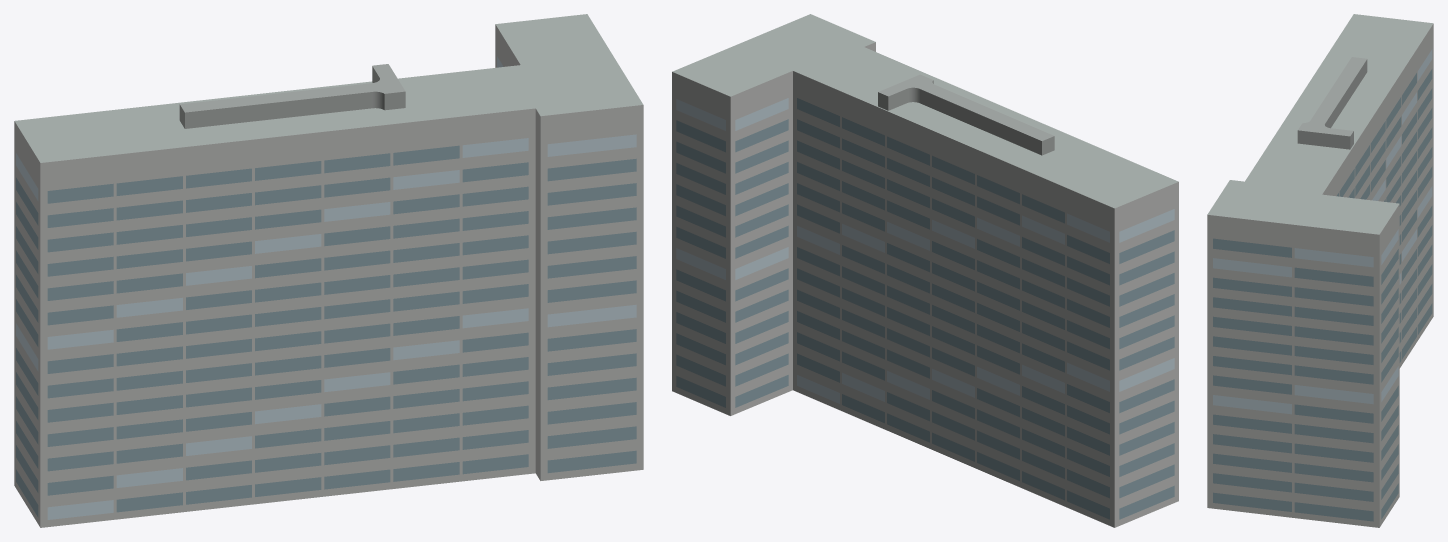
Rendered from fallback-olympic-park-foreon-311.glb.
3 views of the same model, side by side, from view 1: azimuth 30°, elevation 25°; view 2: azimuth 150°, elevation 25°; view 3: azimuth 270°, elevation 25° (orthographic). The views are drawn at different scales.
Visible parts, largest first — view 1: fallback-olympic-park-foreon-311; view 2: fallback-olympic-park-foreon-311; view 3: fallback-olympic-park-foreon-311.
Boxes of the visible parts, bbox=[...] form: fallback-olympic-park-foreon-311: bbox=[14, 14, 643, 527]; fallback-olympic-park-foreon-311: bbox=[672, 14, 1178, 527]; fallback-olympic-park-foreon-311: bbox=[1207, 14, 1433, 527].
Size of the model in its own units: 73.86 by 47.81 by 32.01.
